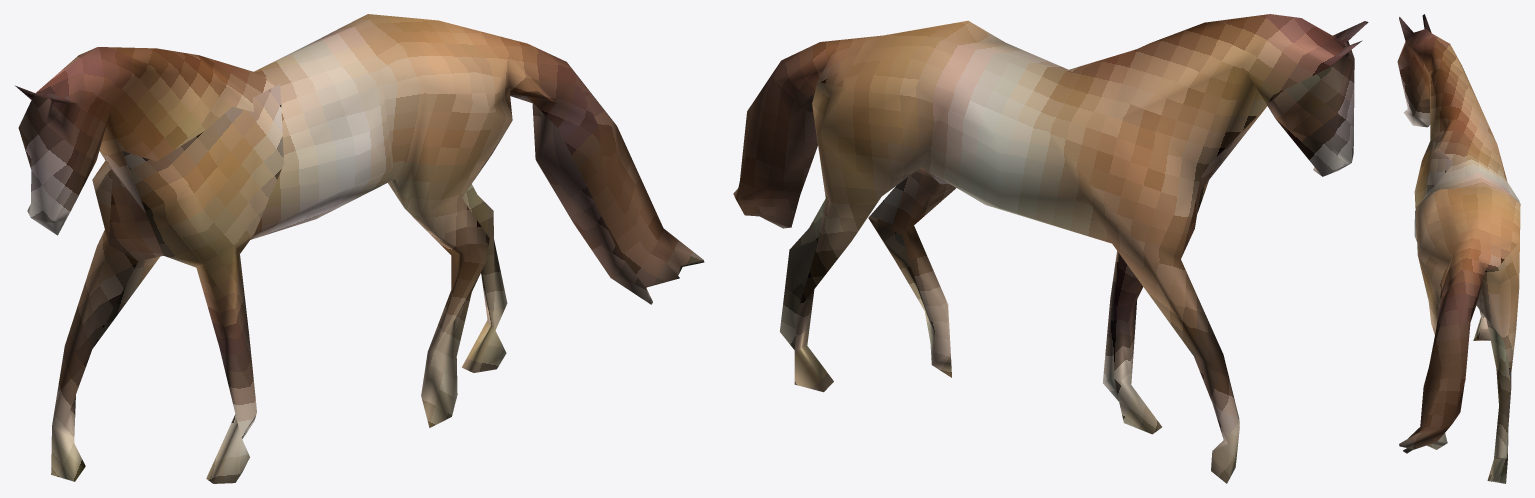
Rendered from Breyer_Horse_Of_The_Year_2015-low.glb.
3 renders of one model, left to right at view 1: azimuth 30°, elevation 25°; view 2: azimuth 150°, elevation 25°; view 3: azimuth 270°, elevation 25°, orthographic. The views are drawn at different scales.
Visible parts, largest first — view 1: Breyer_Horse_Of_The_Year_2015; view 2: Breyer_Horse_Of_The_Year_2015; view 3: Breyer_Horse_Of_The_Year_2015.
Boxes of the visible parts, bbox=[...] form: Breyer_Horse_Of_The_Year_2015: bbox=[15, 14, 704, 483]; Breyer_Horse_Of_The_Year_2015: bbox=[733, 14, 1368, 483]; Breyer_Horse_Of_The_Year_2015: bbox=[1397, 14, 1520, 483].
Bounding box in the file's own units: 0.2305 × 0.1528 × 0.0553.
Materials: 1 (1 with a texture image).
